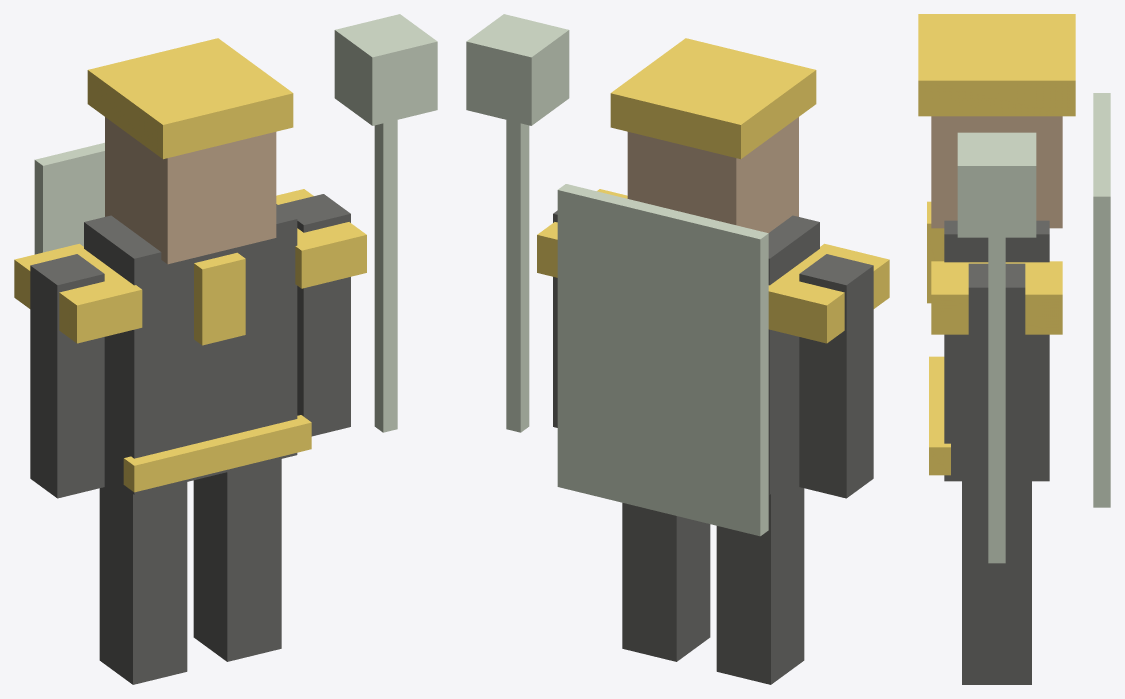
The model's file is 06_vela_tideforged_mechanist_at_ember.glb.
3 views of the same model, side by side, from view 1: azimuth 30°, elevation 25°; view 2: azimuth 150°, elevation 25°; view 3: azimuth 270°, elevation 25° (orthographic). The views are drawn at different scales.
Visible parts, largest first — view 1: Vela Tideforged, Mechanist at Ember; view 2: Vela Tideforged, Mechanist at Ember; view 3: Vela Tideforged, Mechanist at Ember.
Boxes of the visible parts, <box> form: Vela Tideforged, Mechanist at Ember: <box>14,14,437,684</box>; Vela Tideforged, Mechanist at Ember: <box>466,14,889,684</box>; Vela Tideforged, Mechanist at Ember: <box>918,14,1110,684</box>.
Bounding box in the file's own units: 1.09 × 1.6 × 0.4653.
